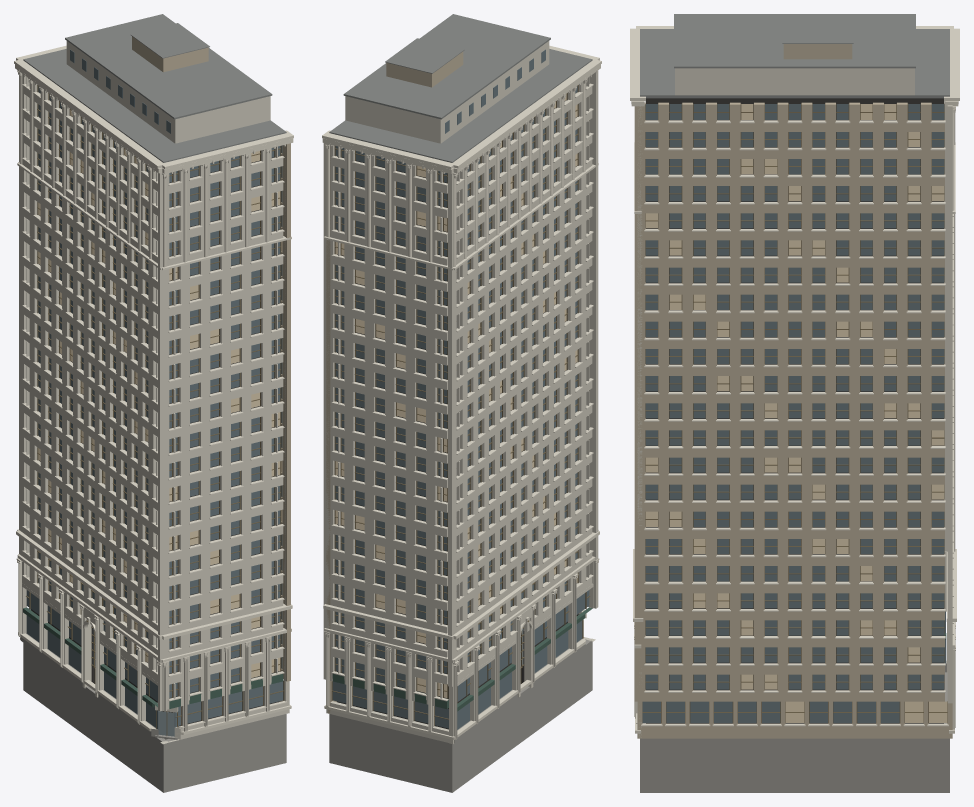
The model's file is old_republic.glb.
3 renders of one model, left to right at view 1: azimuth 30°, elevation 25°; view 2: azimuth 150°, elevation 25°; view 3: azimuth 270°, elevation 25°, orthographic. The views are drawn at different scales.
Visible parts, largest first — view 1: Light buff glazed terracotta, Carved terracotta cornices and capitals, Separate recessed double hung panes, Grey penthouse roof, Minnesota granite street base, Bronze entrance and dark metal sash, Buff Kittanning rear brick, Night occupied office panes, Deep opaque window backing, Dark green glazed retail spandrels, Clear arched entry glazing; view 2: Light buff glazed terracotta, Carved terracotta cornices and capitals, Separate recessed double hung panes, Grey penthouse roof, Minnesota granite street base, Bronze entrance and dark metal sash, Night occupied office panes, Buff Kittanning rear brick, Deep opaque window backing, Dark green glazed retail spandrels; view 3: Buff Kittanning rear brick, Separate recessed double hung panes, Carved terracotta cornices and capitals, Grey penthouse roof, Minnesota granite street base, Bronze entrance and dark metal sash, Light buff glazed terracotta, Night occupied office panes, Deep opaque window backing.
Boxes of the visible parts, x1,y1,x2,y2 form: Light buff glazed terracotta: (18, 41, 289, 744); Carved terracotta cornices and capitals: (14, 45, 293, 734); Separate recessed double hung panes: (26, 49, 283, 729); Grey penthouse roof: (23, 14, 286, 162); Minnesota granite street base: (20, 633, 286, 792); Bronze entrance and dark metal sash: (26, 85, 284, 735); Buff Kittanning rear brick: (132, 36, 290, 701); Night occupied office panes: (38, 110, 282, 677); Deep opaque window backing: (31, 92, 278, 739); Dark green glazed retail spandrels: (23, 607, 283, 708); Clear arched entry glazing: (92, 629, 176, 736); Light buff glazed terracotta: (323, 41, 598, 744); Carved terracotta cornices and capitals: (322, 45, 601, 739); Separate recessed double hung panes: (332, 49, 589, 729); Grey penthouse roof: (329, 14, 592, 162); Minnesota granite street base: (329, 638, 592, 792); Bronze entrance and dark metal sash: (331, 85, 589, 725); Night occupied office panes: (335, 94, 577, 697); Buff Kittanning rear brick: (326, 51, 463, 713); Deep opaque window backing: (337, 92, 578, 729); Dark green glazed retail spandrels: (332, 607, 592, 711); Buff Kittanning rear brick: (634, 44, 952, 738); Separate recessed double hung panes: (642, 104, 946, 722); Carved terracotta cornices and capitals: (630, 26, 959, 733); Grey penthouse roof: (640, 14, 949, 98); Minnesota granite street base: (640, 663, 949, 792); Bronze entrance and dark metal sash: (642, 101, 947, 723); Light buff glazed terracotta: (634, 68, 955, 738); Night occupied office panes: (645, 104, 947, 722); Deep opaque window backing: (646, 98, 943, 723).
Bounding box in the file's own units: 22.54 × 107 × 43.05.
